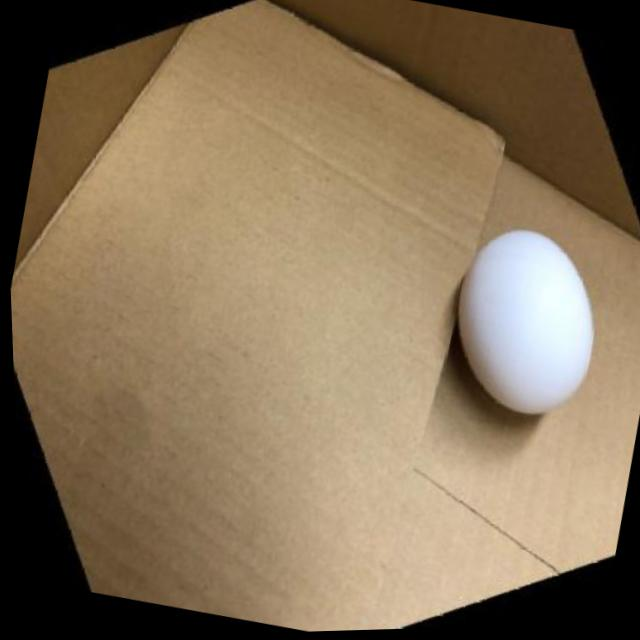egg: (429, 210, 621, 436)
